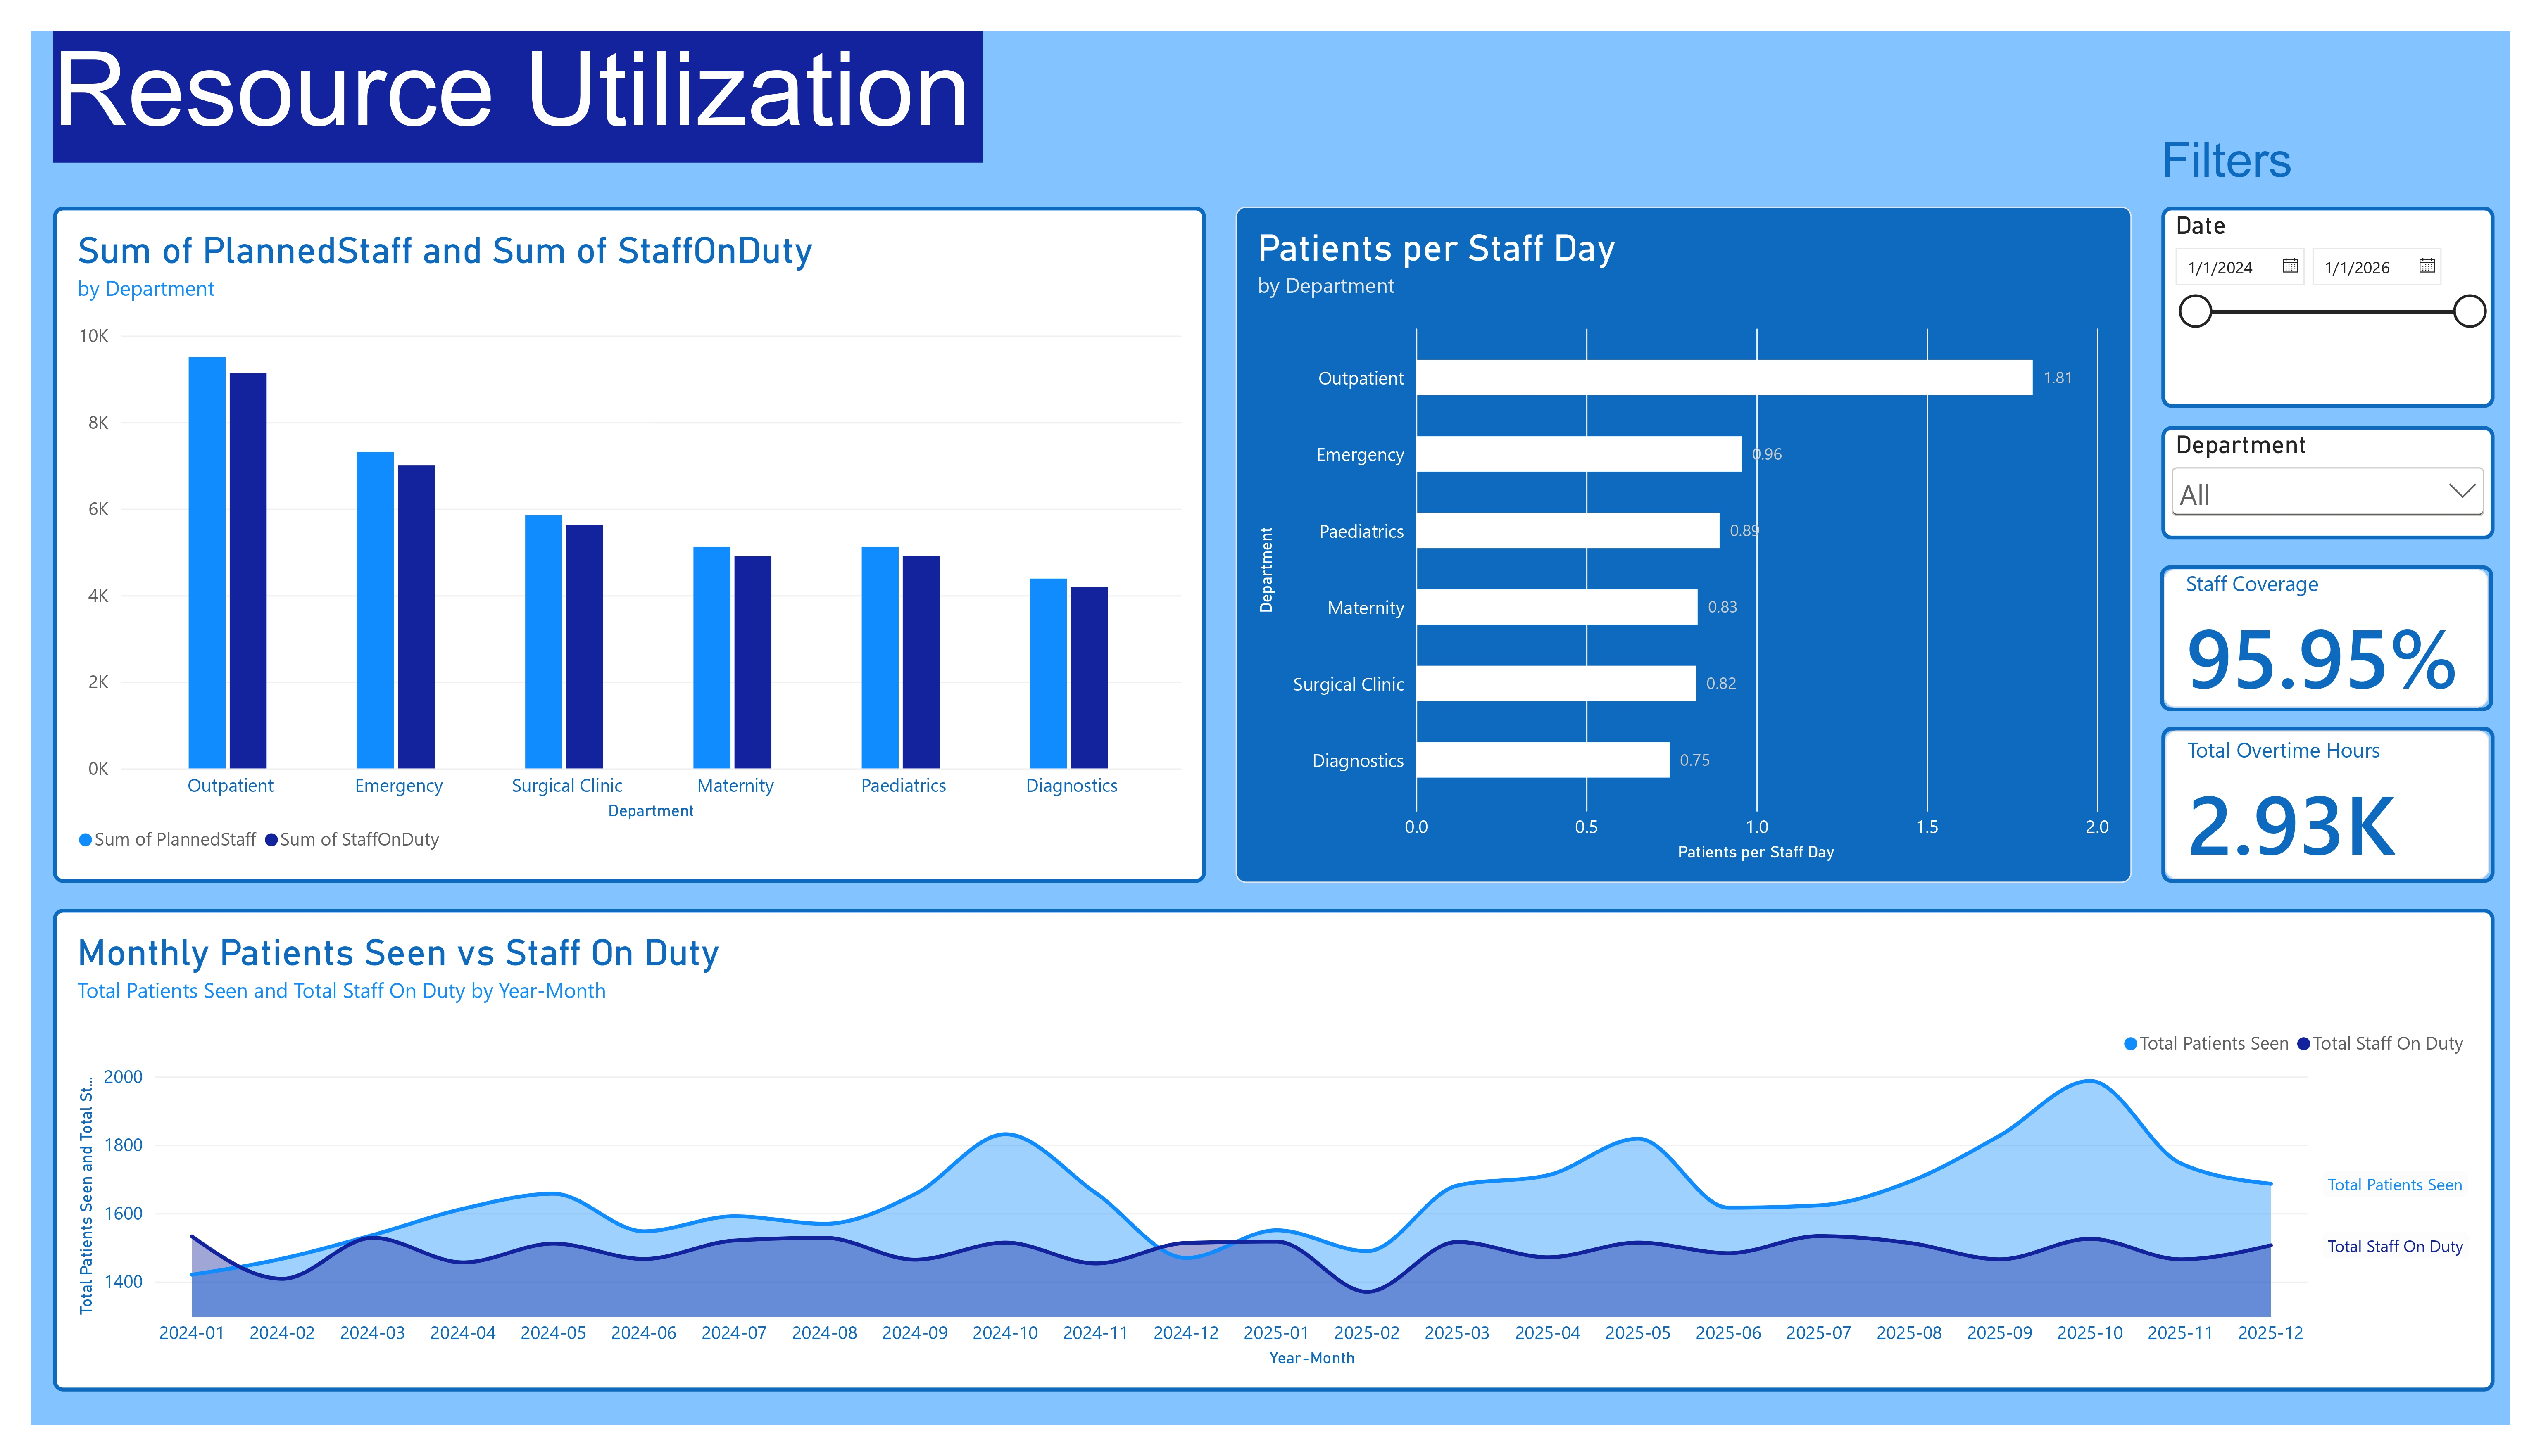

Layout of this report page (visuals, bound fields, positions):
{"tool":"powerbi","page":{"name":"Resource Utilisation","canvas":[1920,1080],"ordinal":3},"visuals":[{"type":"clusteredColumnChart","fields":{"Category":["Staffing.Department"],"Y":["Sum(Staffing.PlannedStaff)","Sum(Staffing.StaffOnDuty)"]},"box":[17,136.1,892.9,524.4],"z":0},{"type":"clusteredBarChart","fields":{"Category":["Staffing.Department"],"Y":["Visits.Patients per Staff Day"]},"box":[932.6,136.1,694.5,524.4],"z":1000},{"type":"cardVisual","fields":{"Data":["Visits.Staff Coverage"]},"box":[1648.8,413.9,258,113.4],"z":2000},{"type":"cardVisual","fields":{"Data":["Visits.Total Overtime Hours"]},"box":[1649.8,538.6,258,121.9],"z":3000},{"type":"lineChart","title":"Monthly Patients Seen vs Staff On Duty","fields":{"Category":["Calendar.Year-Month"],"Y":["Staffing.Total Patients Seen","Staffing.Total Staff On Duty"]},"box":[17,680.3,1890.7,374.2],"z":4000},{"type":"textbox","box":[1649.8,79.4,124.7,56.7],"z":5000},{"type":"textbox","box":[17,0,720,102],"z":6000},{"type":"slicer","fields":{"Values":["Calendar.Date"]},"box":[1649.8,136.1,258,155.9],"z":7000},{"type":"slicer","fields":{"Values":["Staffing.Department"]},"box":[1649.8,306.1,258,87.9],"z":8000}]}

Visuals, with their boxes in screenshot pixels (x1, y1, x2, y2):
clusteredColumnChart - Staffing.Department x Sum(Staffing.PlannedStaff): rect(29, 197, 1194, 881)
clusteredBarChart - Staffing.Department x Visits.Patients per Staff Day: rect(1224, 197, 2130, 881)
cardVisual - Visits.Staff Coverage: rect(2158, 560, 2495, 708)
cardVisual - Visits.Total Overtime Hours: rect(2160, 722, 2496, 881)
"Monthly Patients Seen vs Staff On Duty" lineChart: rect(29, 907, 2496, 1396)
textbox: rect(2160, 124, 2322, 197)
textbox: rect(29, 20, 968, 153)
slicer - Calendar.Date: rect(2160, 197, 2496, 401)
slicer - Staffing.Department: rect(2160, 419, 2496, 534)
